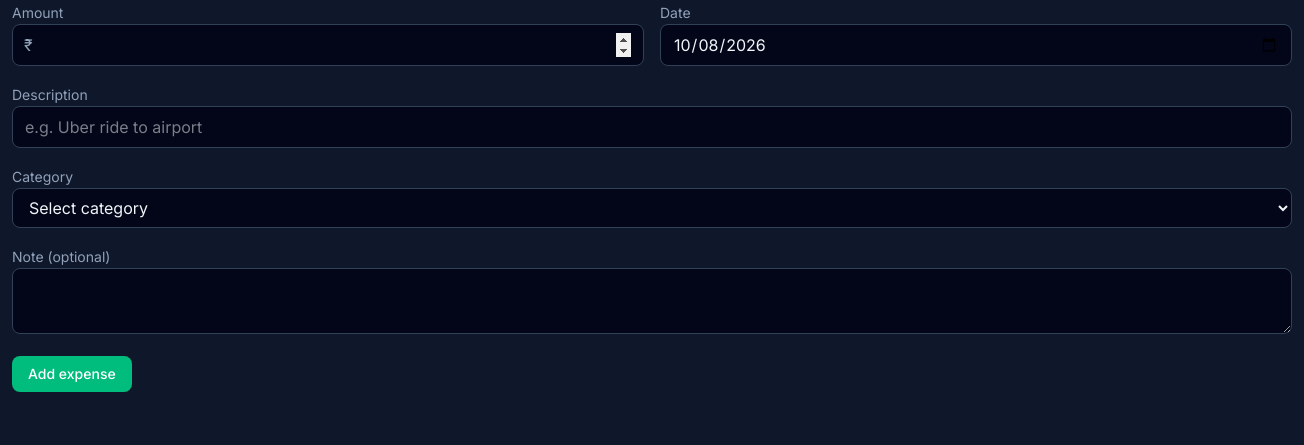
Test: ExpenseForm › tcE06_showsValidationErrorForNonPositiveAmount
This screenshot has width=1304, height=445.
Expected: the dropdown labelled "Category" is shown, [12, 188, 1292, 228]
In the number field labelled "Amount ₹": (328, 45) [12, 24, 644, 66], type "0"
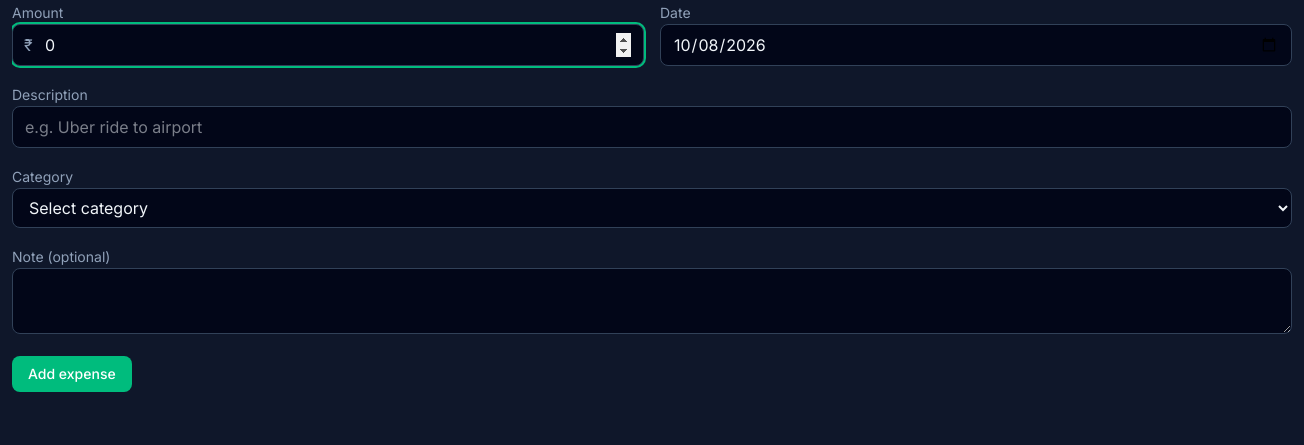
In the field labelled "Description": (652, 127) [12, 106, 1292, 148], type "ab"
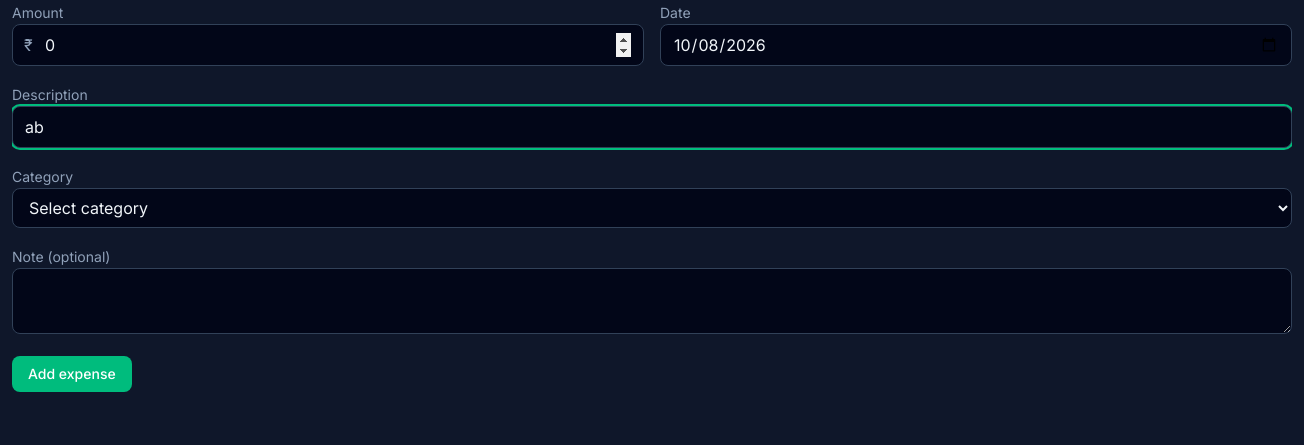
Select "Food" in the dropdown labelled "Category": (652, 208) [12, 188, 1292, 228]
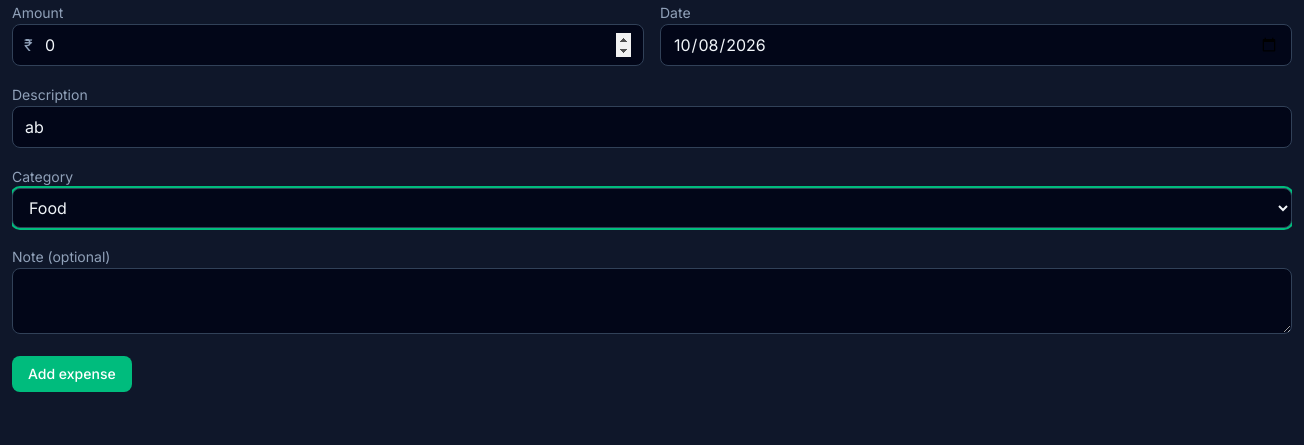
Submit the form "Add expense"
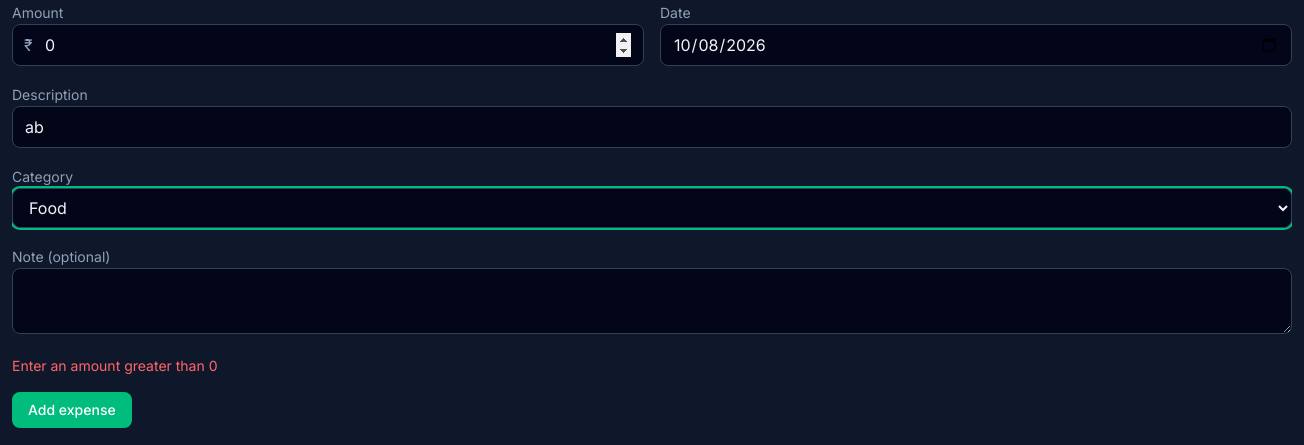
Now the message reads "Enter an amount greater than 0", box [12, 357, 218, 374]
